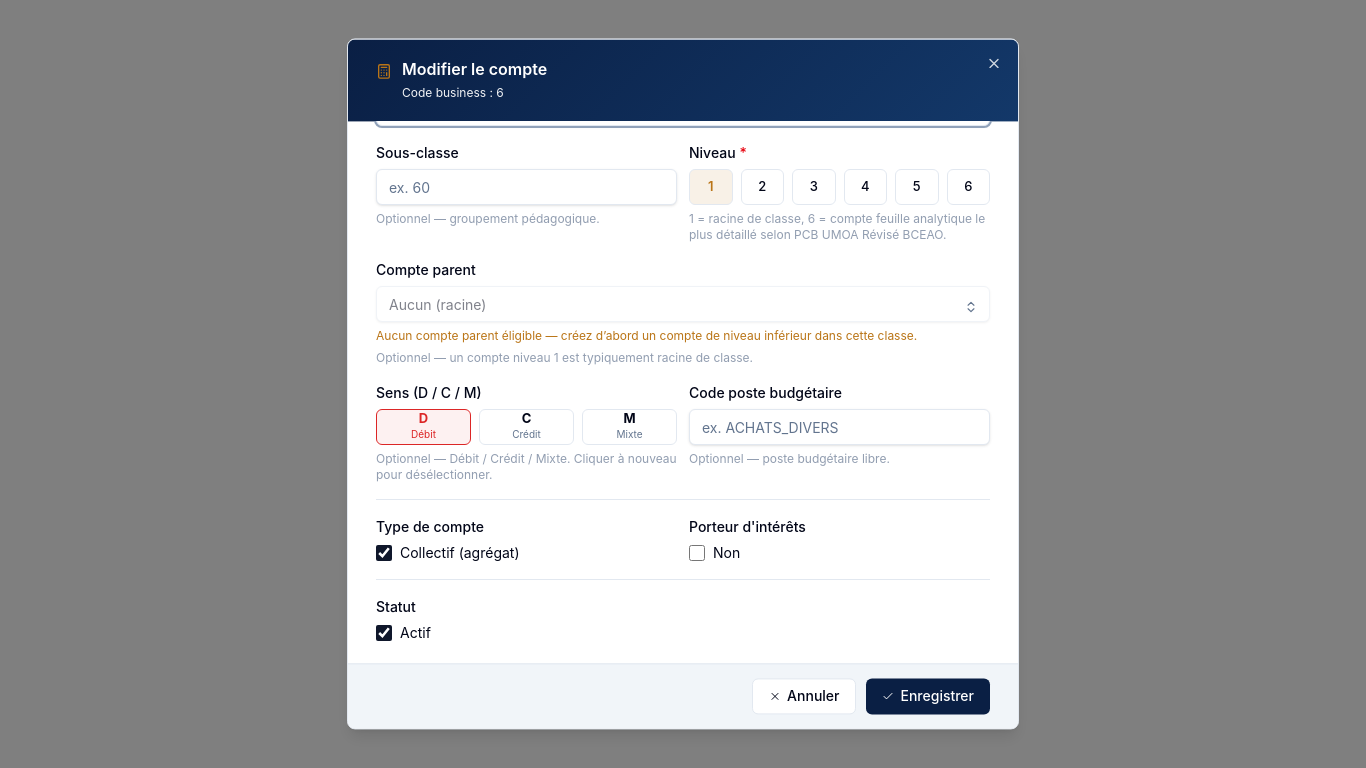
Test: CompteFormDrawer › mode edit : bandeau bleu si seul estActif modifié
(page scrolled)
Step 1. Click the checkbox named "Actif" → click(384, 633), box [376,625,392,641]
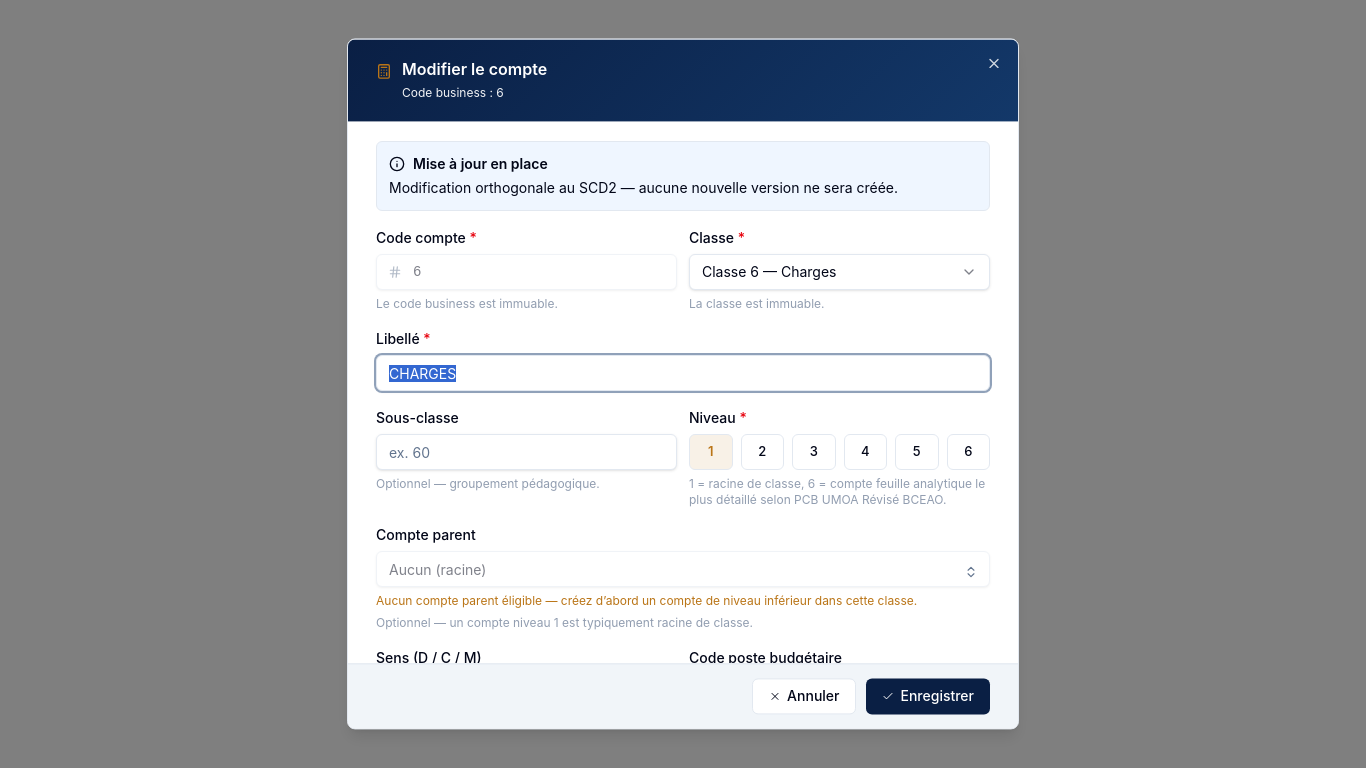
Result: the text "Mise à jour en place" is shown at [389,155,548,172]
